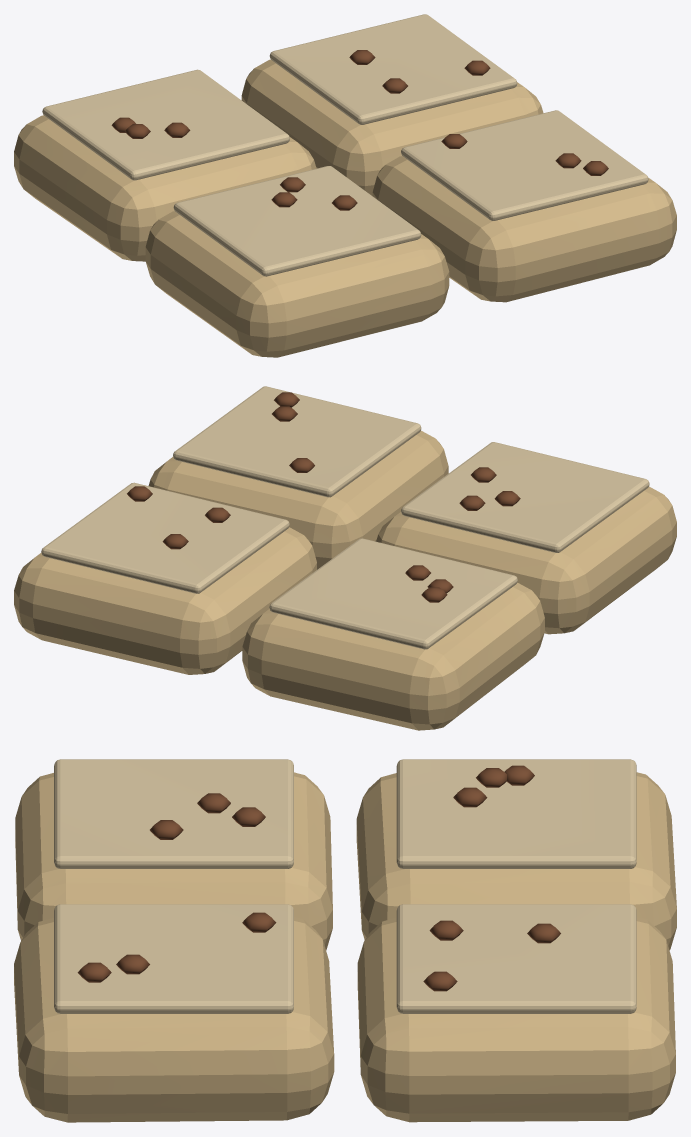
Rendered from gym_crumble_lite.glb.
3 views of the same model, one above another, from view 1: azimuth 30°, elevation 25°; view 2: azimuth 150°, elevation 25°; view 3: azimuth 270°, elevation 25° (orthographic). The views are drawn at different scales.
Visible parts, largest first — view 1: Cube; view 2: Cube; view 3: Cube.
Boxes of the visible parts, <box> form: Cube: <box>14,14,676,357</box>; Cube: <box>14,386,676,730</box>; Cube: <box>14,759,676,1122</box>.
Size of the model in its own units: 1.93 by 0.425 by 1.93.
